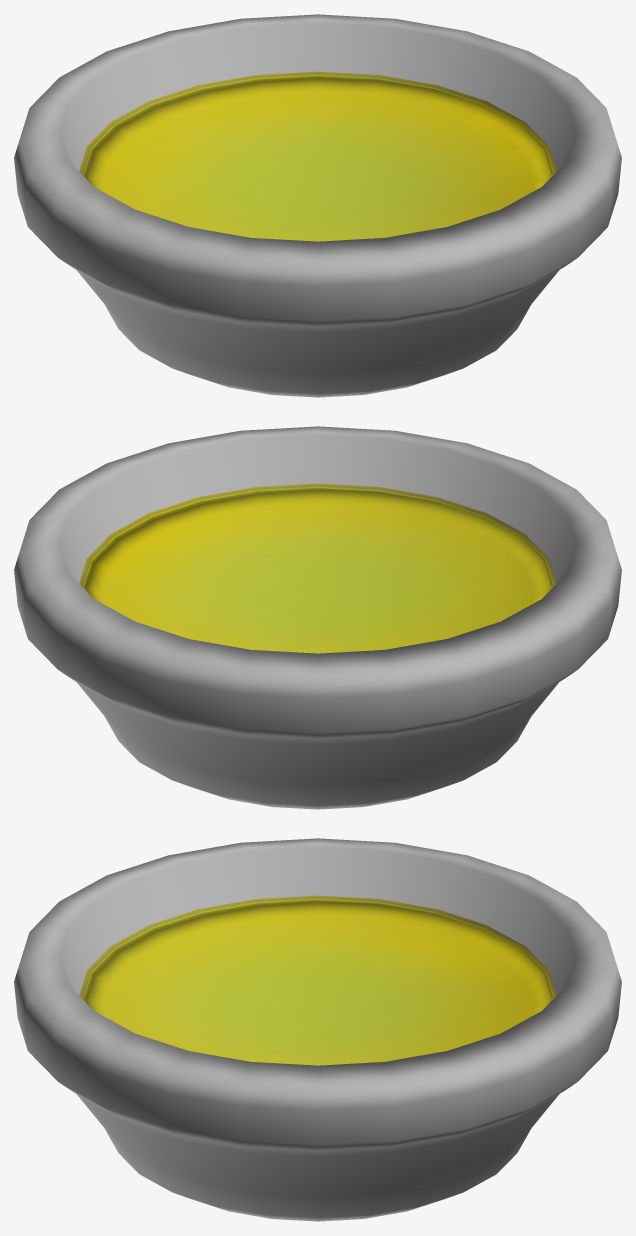
The model's file is pi_smallbowl01_oliveoil.gltf.
3 views of the same model, one above another, from view 1: azimuth 30°, elevation 25°; view 2: azimuth 150°, elevation 25°; view 3: azimuth 270°, elevation 25° (orthographic).
Visible parts, largest first — view 1: pi_smallbowl01_mesh_shape:pi_smallbowl01_body, pi_oliveoil01_mesh_shape:pi_oliveoil01_body, pi_oliveoil02_mesh_shape:pi_oliveoil01_body; view 2: pi_smallbowl01_mesh_shape:pi_smallbowl01_body, pi_oliveoil01_mesh_shape:pi_oliveoil01_body, pi_oliveoil02_mesh_shape:pi_oliveoil01_body; view 3: pi_smallbowl01_mesh_shape:pi_smallbowl01_body, pi_oliveoil01_mesh_shape:pi_oliveoil01_body, pi_oliveoil02_mesh_shape:pi_oliveoil01_body.
Boxes of the visible parts, <box> form: pi_smallbowl01_mesh_shape:pi_smallbowl01_body: <box>14,14,621,397</box>; pi_oliveoil01_mesh_shape:pi_oliveoil01_body: <box>79,71,556,241</box>; pi_oliveoil02_mesh_shape:pi_oliveoil01_body: <box>83,74,552,240</box>; pi_smallbowl01_mesh_shape:pi_smallbowl01_body: <box>14,426,621,809</box>; pi_oliveoil01_mesh_shape:pi_oliveoil01_body: <box>79,483,556,653</box>; pi_oliveoil02_mesh_shape:pi_oliveoil01_body: <box>83,486,552,652</box>; pi_smallbowl01_mesh_shape:pi_smallbowl01_body: <box>14,838,621,1221</box>; pi_oliveoil01_mesh_shape:pi_oliveoil01_body: <box>79,895,556,1065</box>; pi_oliveoil02_mesh_shape:pi_oliveoil01_body: <box>83,898,552,1064</box>.
Bounding box in the file's own units: 0.0793 × 0.0274 × 0.0793.
Materials: 2 (2 with a texture image).
